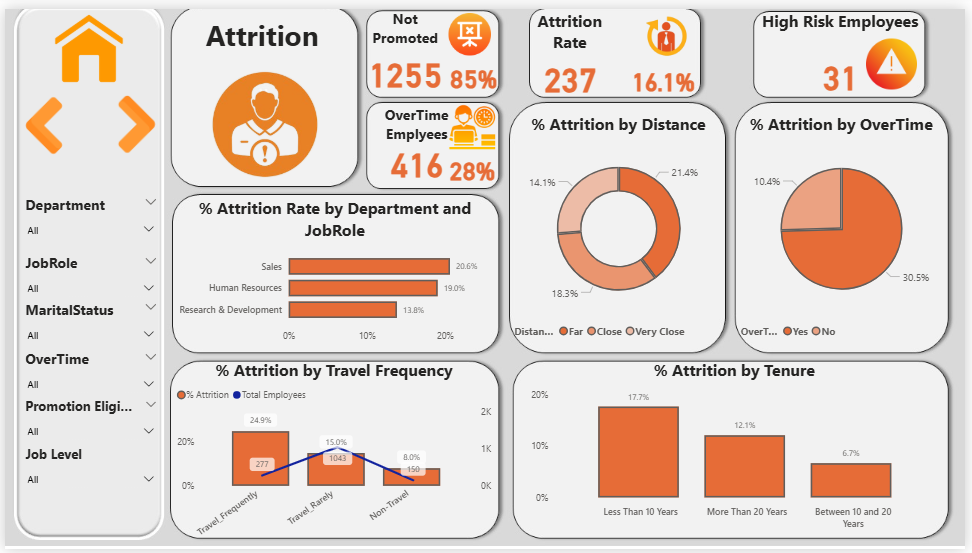

The dashboard page shown, as its layout file describes it:
{"tool":"powerbi","page":{"name":"Attrition Analysis","canvas":[1280,720],"ordinal":4},"visuals":[{"type":"card","title":"Attrition Rate","fields":{"Values":["_Measures.# Attrition"]},"box":[684.1,0,138.1,123.5],"z":0,"group":"g1"},{"type":"card","title":"#Overtime Employees","fields":{"Values":["_Measures.% Overtime"]},"box":[541.6,175.7,161,76.4],"z":0},{"type":"clusteredBarChart","title":"% Attrition Rate by Department and JobRole","fields":{"Category":["Data.Department","Data.JobRole"],"Y":["_Measures.% Attrition"]},"box":[226.1,250.5,427.8,203.3],"z":1000},{"type":"card","title":"#Promoted Employees","fields":{"Values":["_Measures.% Attrition"]},"box":[812.6,47.2,130.4,94.5],"z":2000,"group":"g1"},{"type":"lineStackedColumnComboChart","title":"% Attrition by Travel Frequency","fields":{"Category":["Data.BusinessTravel"],"Y":["_Measures.% Attrition"],"Y2":["_Measures.Total Emp"]},"box":[224.5,465.2,429.4,255.4],"z":2000},{"type":"card","title":"Not Promoted","fields":{"Values":["_Measures.% Not Promoted"]},"box":[574.2,58.6,100.8,66.7],"z":3000},{"type":"card","title":"Not  Promoted ","fields":{"Values":["_Measures.Not Promoted"]},"box":[466.8,0,135,117.1],"z":4000},{"type":"card","title":"OverTime Emplyees","fields":{"Values":["_Measures.OverTime"]},"box":[470.1,128.5,157.8,102.5],"z":5000},{"type":"card","title":"High Risk Employees ","fields":{"Values":["_Measures.High-Risk Employees"]},"box":[1001.6,0,223,119.1],"z":6000,"group":"g2"},{"type":"pieChart","fields":{"Y":["_Measures.% Attrition"],"Category":["Data.OverTime"]},"box":[976,138,278,310],"z":6000},{"type":"donutChart","fields":{"Category":["Data.Distance "],"Y":["_Measures.% Attrition"]},"box":[674,138,288,310],"z":7000},{"type":"image","box":[569.3,120.4,105.7,74.8],"z":8000},{"type":"columnChart","title":"% Attrition by Tenure","fields":{"Category":["Data.SeviceYear"],"Y":["_Measures.% Attrition"]},"box":[696.2,465.2,553,235.8],"z":9000},{"type":"image","box":[549.8,0,139.9,66.7],"z":10000},{"type":"image","box":[226.1,60.2,240.7,182.2],"z":11000},{"type":"textbox","box":[216.3,4.9,253.7,74.8],"z":12000},{"type":"slicer","fields":{"Values":["Data.Department"]},"box":[13,242,200,80],"z":13000},{"type":"image","box":[12.5,0,200,105],"z":14000},{"type":"image","box":[1139.9,34.1,84.5,78.2],"z":14000,"group":"g2"},{"type":"image","box":[130,108,91,91],"z":15000},{"type":"image","box":[807.3,0,147,68.4],"z":16000,"group":"g1"},{"type":"image","box":[5,110,92.5,90],"z":16000},{"type":"slicer","fields":{"Values":["Data.JobRole"]},"box":[13,319.9,200,65],"z":17000},{"type":"slicer","fields":{"Values":["Data.MaritalStatus"]},"box":[13.3,382.9,200,66.7],"z":18000},{"type":"slicer","fields":{"Values":["Data.OverTime"]},"box":[13.3,447.5,200,66.7],"z":19000},{"type":"slicer","fields":{"Values":["Data.Promotion Eligible"]},"box":[13.3,512.1,200,66.7],"z":20000},{"type":"slicer","fields":{"Values":["Data.JobLevel2"]},"box":[13.3,576.7,200,66.7],"z":21000},{"type":"group","id":"g1","title":"Group 1","box":[684.1,0,270.2,141.7],"z":22000},{"type":"group","id":"g2","title":"Group 2","box":[1001.6,0,223,119.1],"z":23000}]}

Visuals, with their boxes in screenshot pixels (x1, y1, x2, y2), scaled from the page's 1280x720 canvas onto the 972x553 screenshot:
"Attrition Rate" card: 519/0/624/95
"#Overtime Employees" card: 411/135/534/194
"% Attrition Rate by Department and JobRole" clusteredBarChart: 172/192/497/349
"#Promoted Employees" card: 617/36/716/109
"% Attrition by Travel Frequency" lineStackedColumnComboChart: 170/357/497/552
"Not Promoted" card: 436/45/513/96
"Not  Promoted " card: 354/0/457/90
"OverTime Emplyees" card: 357/99/477/177
"High Risk Employees " card: 761/0/930/91
pieChart - _Measures.% Attrition x Data.OverTime: 741/106/952/344
donutChart - Data.Distance  x _Measures.% Attrition: 512/106/731/344
image: 432/92/513/150
"% Attrition by Tenure" columnChart: 529/357/949/538
image: 418/0/524/51
image: 172/46/354/186
textbox: 164/4/357/61
slicer - Data.Department: 10/186/162/247
image: 9/0/161/81
image: 866/26/930/86
image: 99/83/168/153
image: 613/0/725/53
image: 4/84/74/154
slicer - Data.JobRole: 10/246/162/296
slicer - Data.MaritalStatus: 10/294/162/345
slicer - Data.OverTime: 10/344/162/395
slicer - Data.Promotion Eligible: 10/393/162/445
slicer - Data.JobLevel2: 10/443/162/494
"Group 1" group: 519/0/725/109
"Group 2" group: 761/0/930/91
